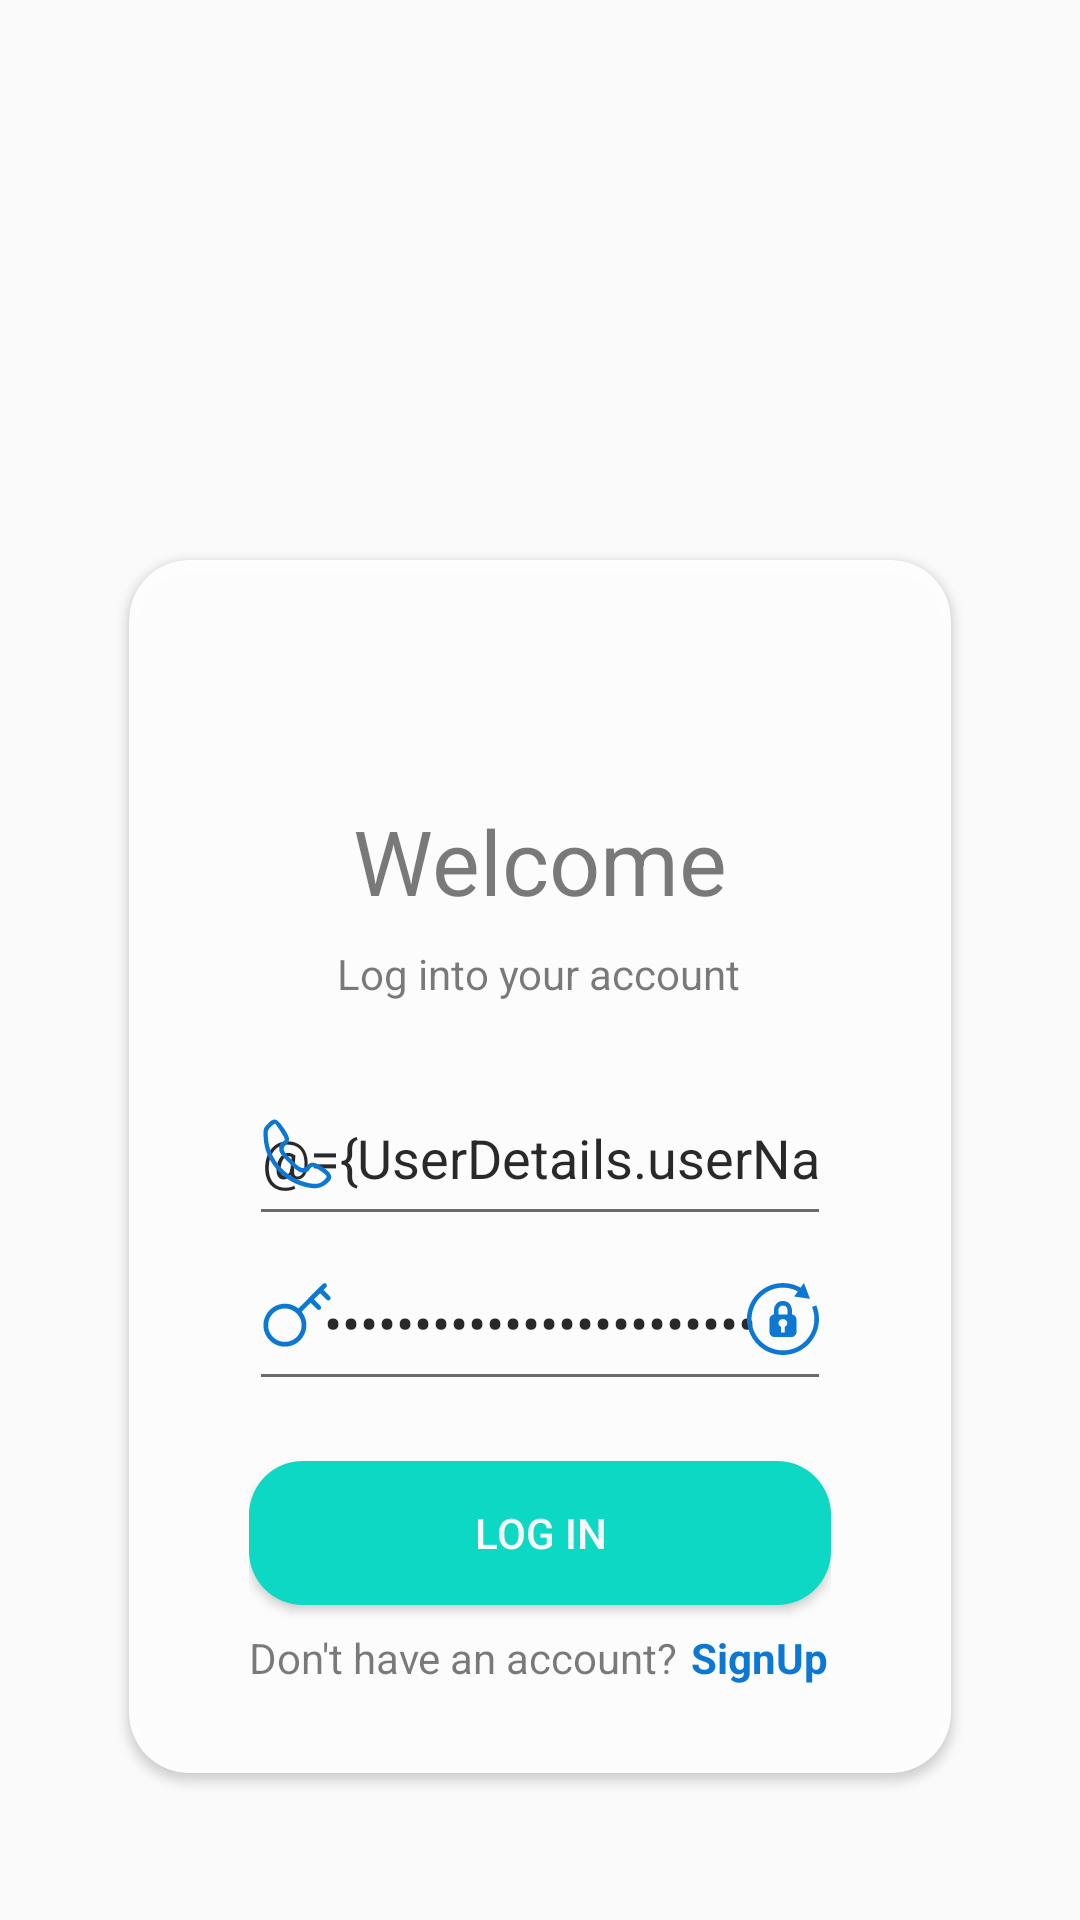

Locate icon controls on the screen. Image size 1080*1920, boxes as (x1, y1, x2, y2).
key: (263, 1283, 331, 1347)
reset pass wd: (747, 1283, 819, 1355)
